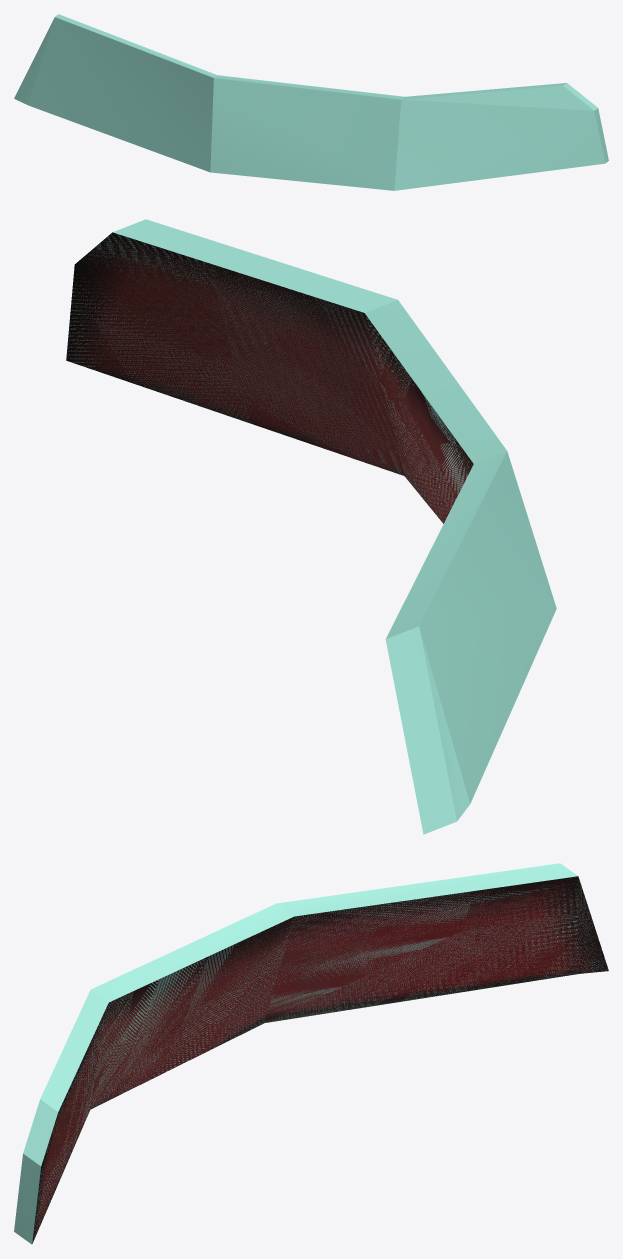
The model's file is SampleCar_01_Brake_L.fbx.
The picture shows the model from 3 angles, top to bottom: view 1: azimuth 30°, elevation 25°; view 2: azimuth 150°, elevation 25°; view 3: azimuth 270°, elevation 25°; orthographic projection. The views are drawn at different scales.
Visible parts, largest first — view 1: UTM_glass_007; view 2: UTM_glass_007, glass_007_LOD0; view 3: glass_007_LOD0, UTM_glass_007.
Boxes of the visible parts, x1,y1,x2,y2 form: UTM_glass_007: [14, 14, 608, 190]; UTM_glass_007: [66, 219, 556, 834]; glass_007_LOD0: [66, 232, 473, 523]; glass_007_LOD0: [32, 876, 608, 1243]; UTM_glass_007: [14, 863, 607, 1244].
Bounding box in the file's own units: 22.12 × 5.06 × 20.63.
